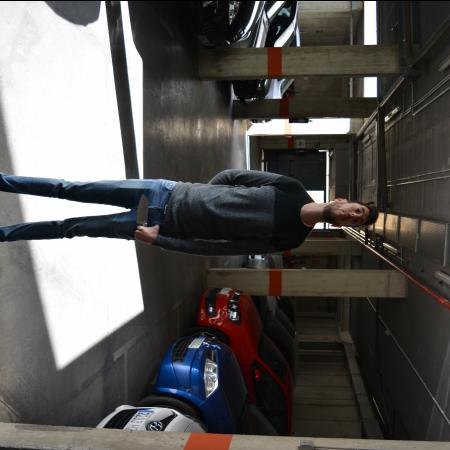long weapon: (135, 191, 151, 229)
